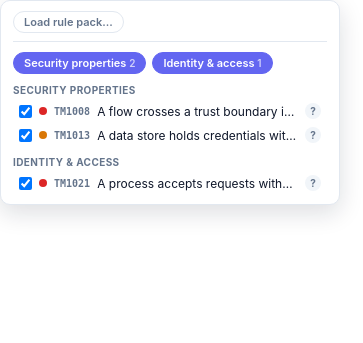
Test case: AnalysisSettings — rule help › closes the panel when the same rule is asked again
Click the 1st button "?".
click(313, 111)  # box [305,103,321,119]
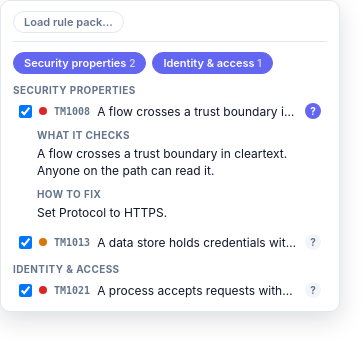
Click the 1st button "?".
click(313, 111)  # box [305,103,321,119]
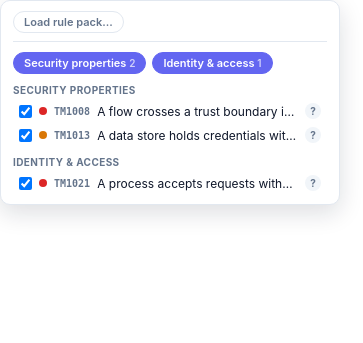
Expected: the text "What it checks" is gone
